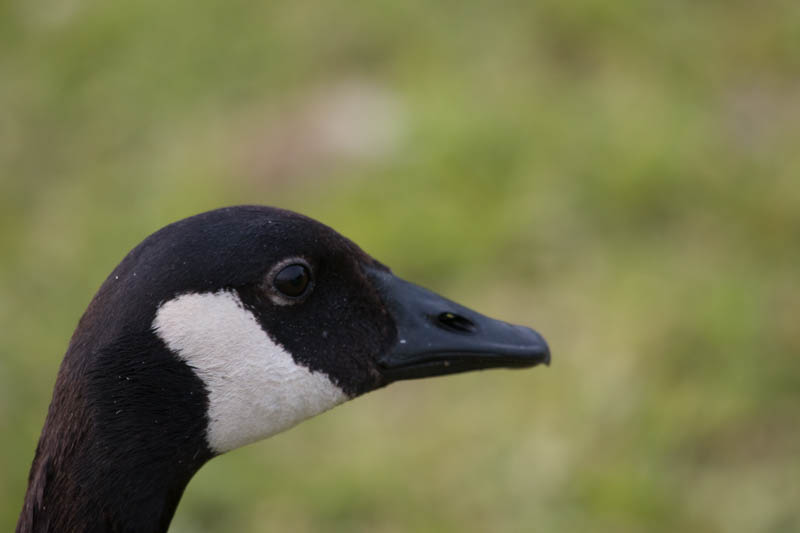goose-head: (53, 205, 552, 462)
